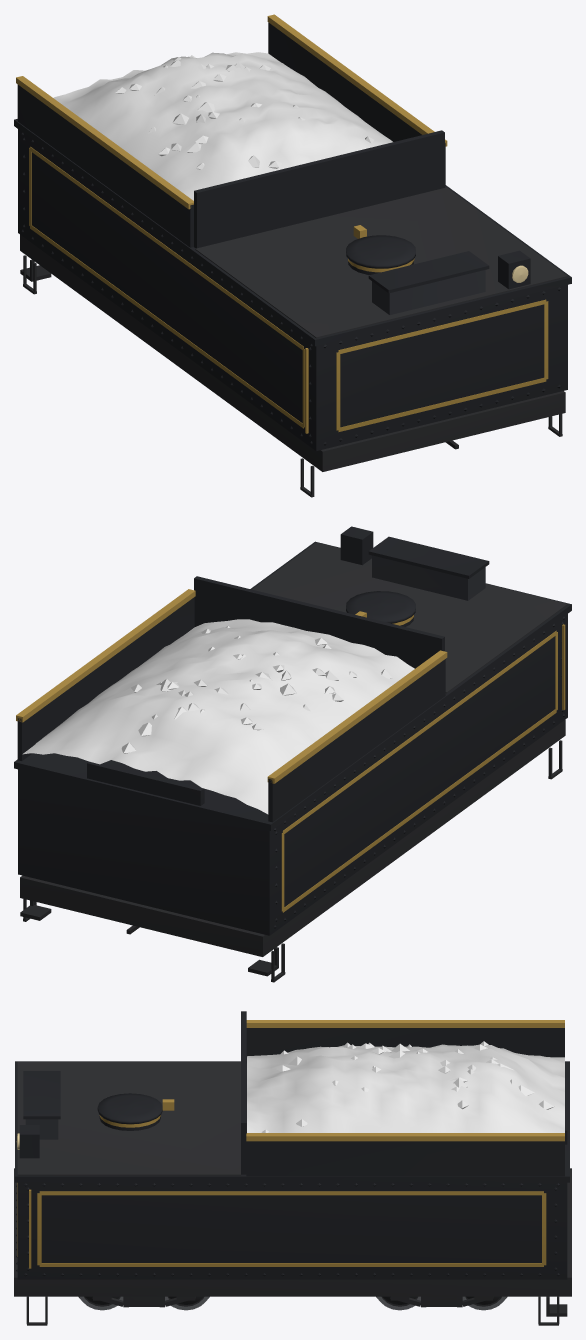
Rendered from tender.glb.
The picture shows the model from 3 angles, top to bottom: view 1: azimuth 30°, elevation 25°; view 2: azimuth 150°, elevation 25°; view 3: azimuth 270°, elevation 25°; orthographic projection. The views are drawn at different scales.
Parts seen in each view (by area): view 1: Body, Coal; view 2: Body, Coal; view 3: Body, Coal, Far.
Boxes of the visible parts, box(x1,y1,x2,y2) form: Body: box(14, 14, 571, 497); Coal: box(53, 52, 392, 200); Body: box(14, 526, 571, 982); Coal: box(22, 619, 414, 814); Body: box(14, 1011, 571, 1325); Coal: box(247, 1041, 564, 1132); Far: box(17, 1097, 501, 1307).
Size of the model in its own units: 5.93 by 5.21 by 12.
